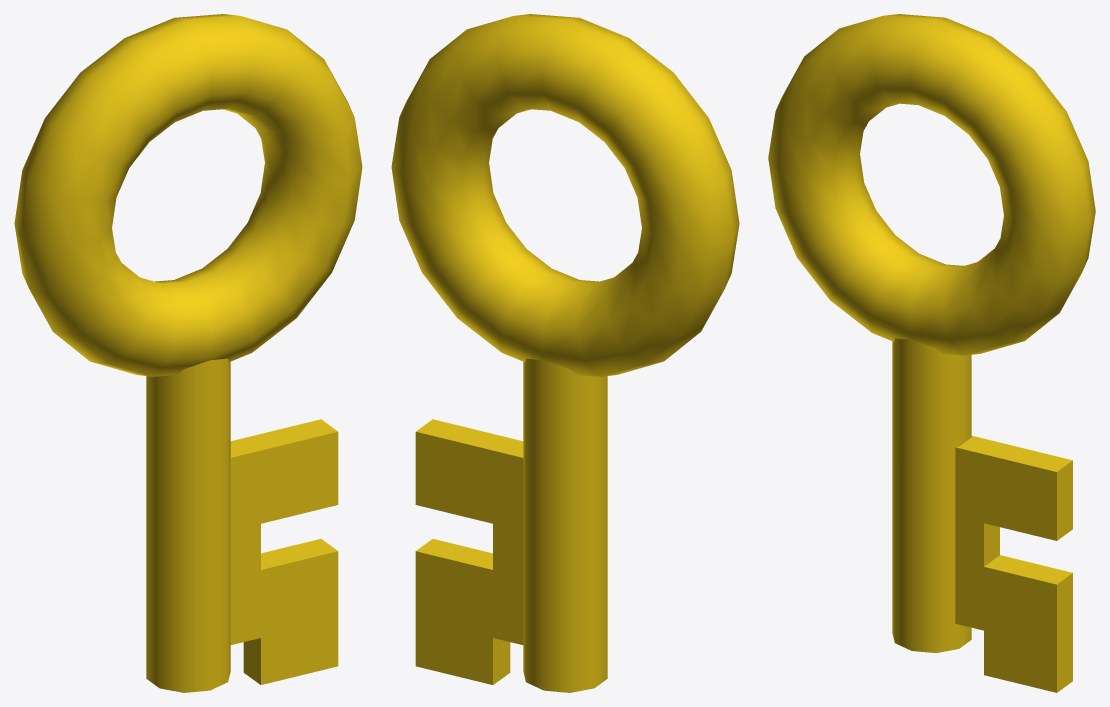
File: key.fbx
3 renders of one model, left to right at view 1: azimuth 30°, elevation 25°; view 2: azimuth 150°, elevation 25°; view 3: azimuth 330°, elevation 25°, orthographic. The views are drawn at different scales.
Visible parts, largest first — view 1: key; view 2: key; view 3: key.
Part boxes in pixels (bbox=[...]): key: bbox=[14, 14, 362, 692]; key: bbox=[391, 14, 739, 692]; key: bbox=[768, 14, 1095, 692].
Size of the model in its own units: 0.1262 by 0.2426 by 0.0304.
